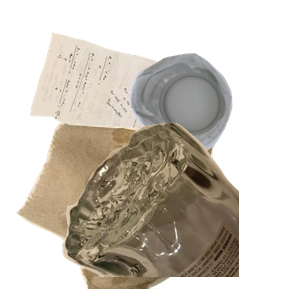glass: (60, 120, 300, 300)
paper: (27, 30, 203, 178)
plastic: (127, 51, 300, 197)
trash: (14, 120, 222, 300)
